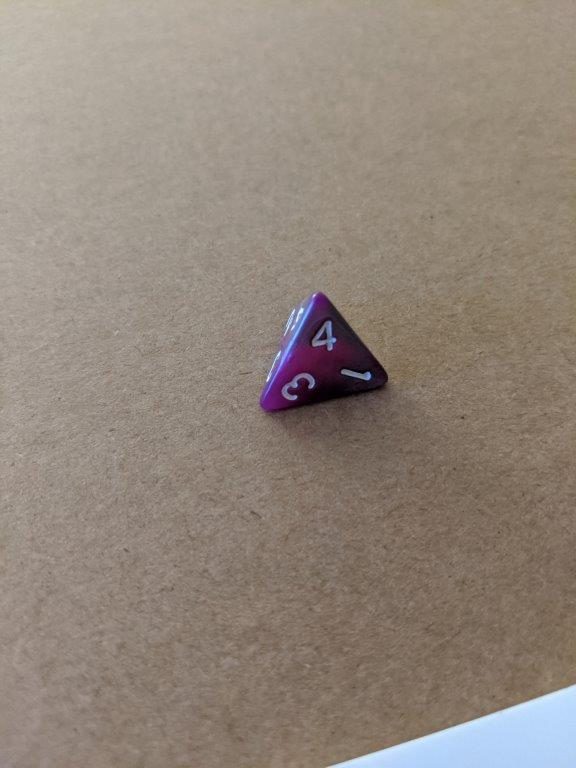d4-4: (255, 291, 389, 414)
